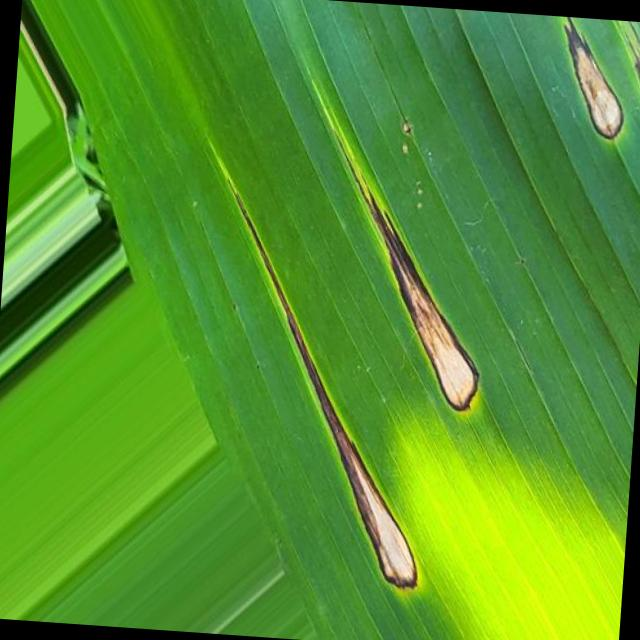Banana_Black_Sigatoka: (237, 227, 553, 591), (542, 15, 640, 153)
